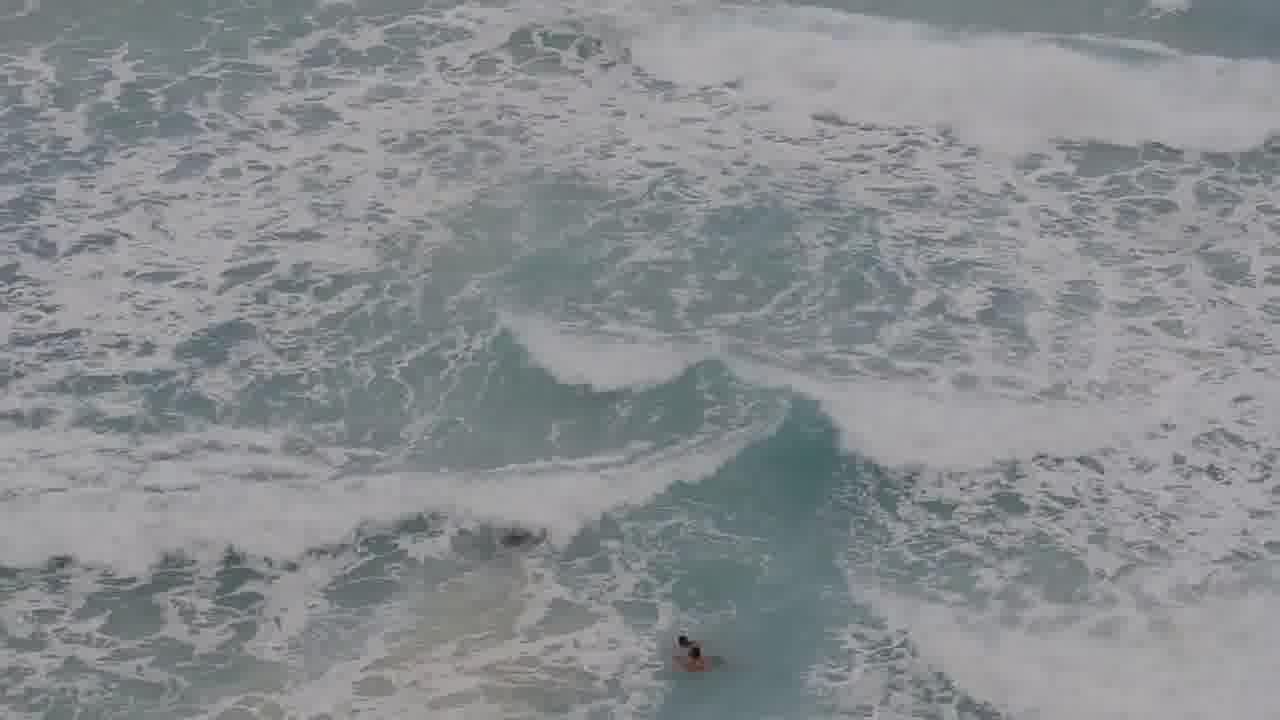swimmer: (672, 621, 719, 684)
